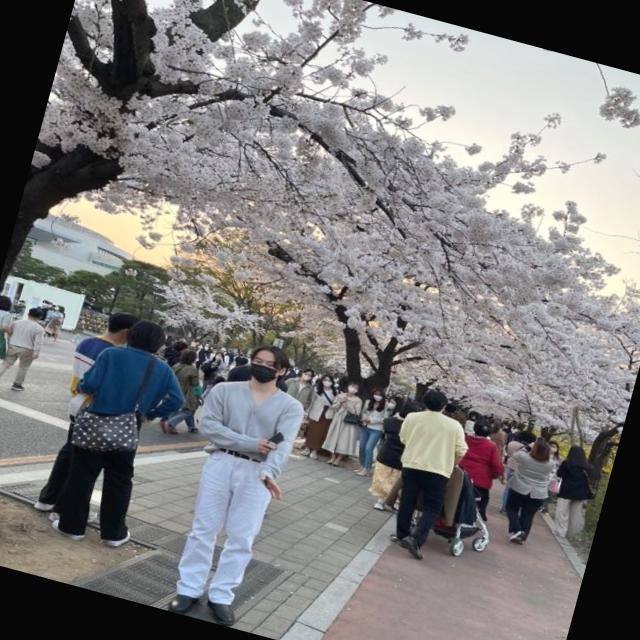cardigan: (183, 366, 309, 482)
cottonpants: (165, 442, 280, 612)
